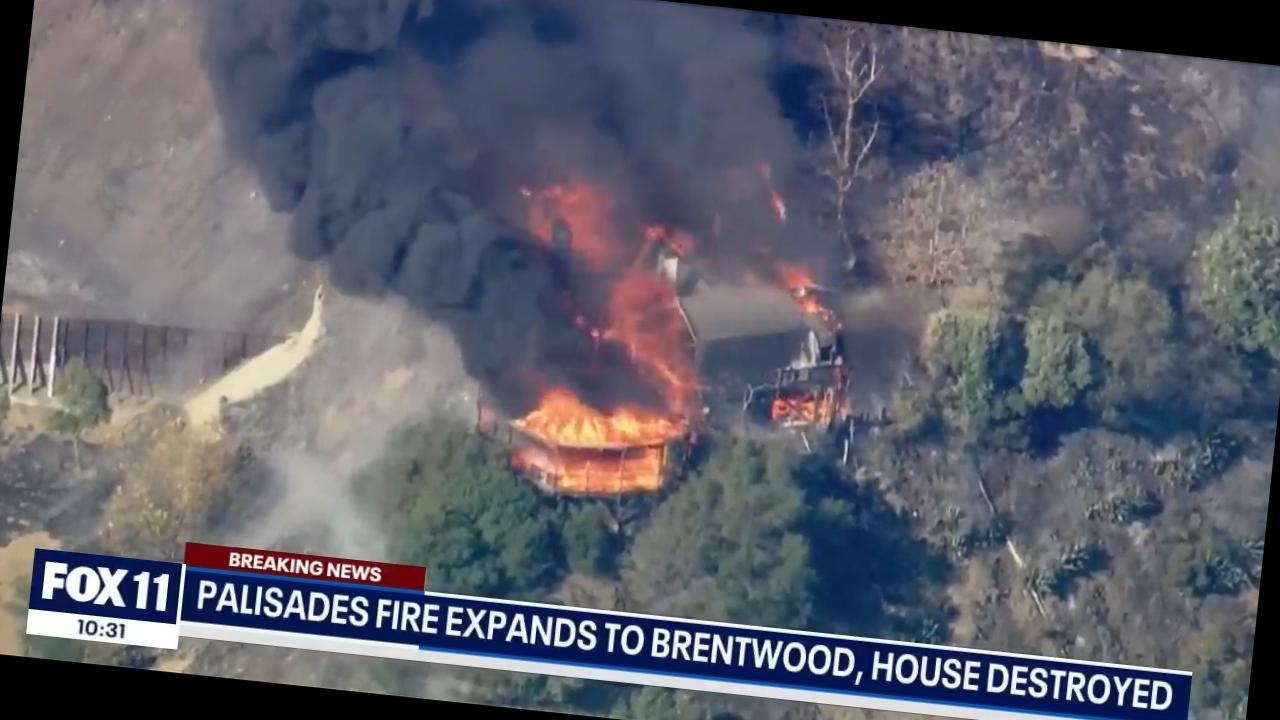Smoke: (166, 0, 841, 424)
